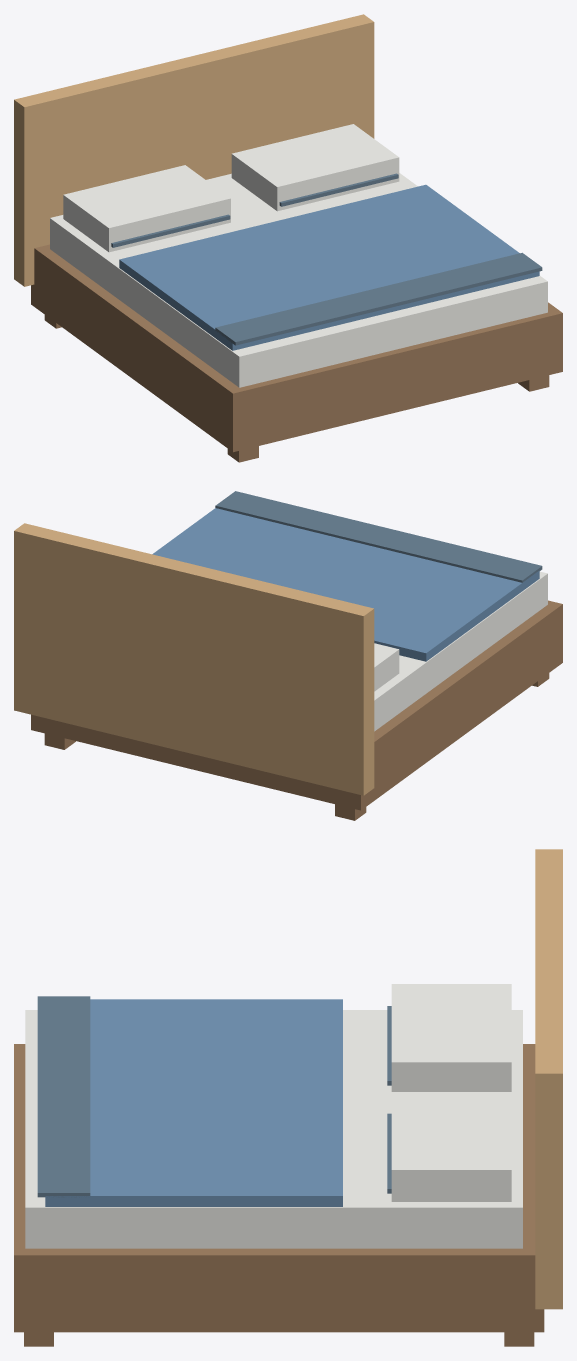
Rendered from hotel_bed01.glb.
The picture shows the model from 3 angles, top to bottom: view 1: azimuth 30°, elevation 25°; view 2: azimuth 150°, elevation 25°; view 3: azimuth 270°, elevation 25°; orthographic projection. The views are drawn at different scales.
Visible parts, largest first — view 1: headboard_wood_light_5, bed_frame_wood_oiled_0, blanket_fabric_blue_3, mattress_ceramic_2, pillow_ceramic_6, throw_fabric_dark_4, pillow_trim_fabric_dark_7, legs_wood_oiled_1; view 2: headboard_wood_light_5, blanket_fabric_blue_3, bed_frame_wood_oiled_0, throw_fabric_dark_4, mattress_ceramic_2, pillow_ceramic_6, legs_wood_oiled_1; view 3: blanket_fabric_blue_3, bed_frame_wood_oiled_0, mattress_ceramic_2, pillow_ceramic_6, headboard_wood_light_5, throw_fabric_dark_4, legs_wood_oiled_1, pillow_trim_fabric_dark_7.
Boxes of the visible parts, bbox=[...] form: headboard_wood_light_5: bbox=[14, 14, 374, 286]; bed_frame_wood_oiled_0: bbox=[31, 244, 562, 452]; blanket_fabric_blue_3: bbox=[119, 184, 539, 350]; mattress_ceramic_2: bbox=[50, 173, 547, 387]; pillow_ceramic_6: bbox=[63, 124, 399, 252]; throw_fabric_dark_4: bbox=[215, 252, 542, 345]; pillow_trim_fabric_dark_7: bbox=[111, 173, 398, 247]; legs_wood_oiled_1: bbox=[44, 315, 549, 462]; headboard_wood_light_5: bbox=[14, 523, 374, 795]; blanket_fabric_blue_3: bbox=[152, 508, 539, 661]; bed_frame_wood_oiled_0: bbox=[31, 600, 562, 810]; throw_fabric_dark_4: bbox=[215, 491, 542, 582]; mattress_ceramic_2: bbox=[374, 571, 547, 731]; pillow_ceramic_6: bbox=[374, 643, 399, 691]; legs_wood_oiled_1: bbox=[44, 673, 549, 820]; blanket_fabric_blue_3: bbox=[45, 999, 342, 1206]; bed_frame_wood_oiled_0: bbox=[14, 1044, 544, 1332]; mattress_ceramic_2: bbox=[25, 1010, 522, 1248]; pillow_ceramic_6: bbox=[391, 984, 511, 1201]; headboard_wood_light_5: bbox=[535, 849, 562, 1309]; throw_fabric_dark_4: bbox=[37, 996, 90, 1197]; legs_wood_oiled_1: bbox=[24, 1332, 534, 1346]; pillow_trim_fabric_dark_7: bbox=[387, 1006, 391, 1193].
Bounding box in the file's own units: 2.12 × 1.26 × 2.19.
